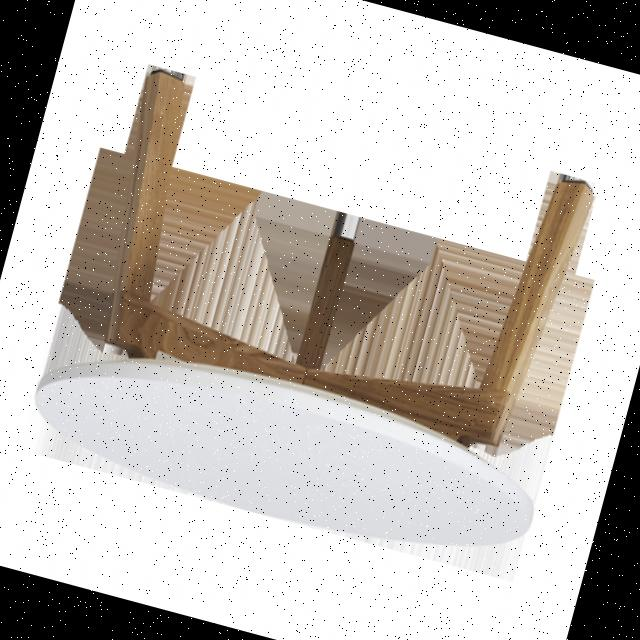Table: (0, 35, 640, 607)
